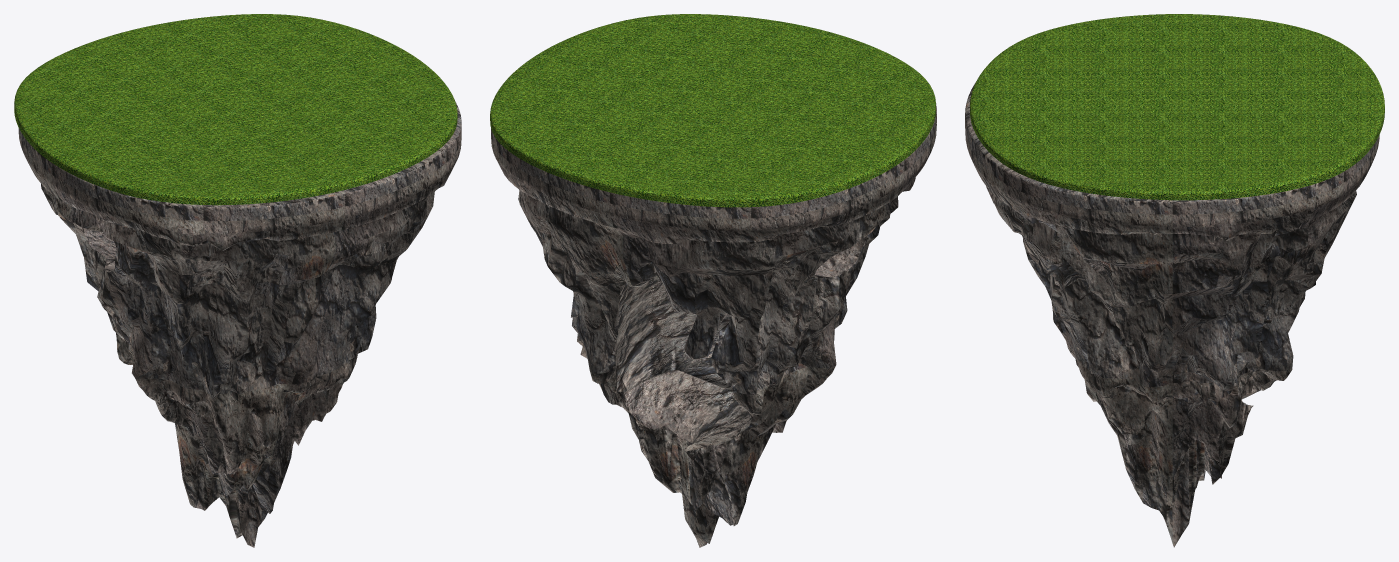
Rendered from ISLAND2.glb.
The picture shows the model from 3 angles, left to right: view 1: azimuth 30°, elevation 25°; view 2: azimuth 150°, elevation 25°; view 3: azimuth 270°, elevation 25°; orthographic projection. The views are drawn at different scales.
Visible parts, largest first — view 1: Object_7, Object_2; view 2: Object_7, Object_2; view 3: Object_7, Object_2.
Boxes of the visible parts, x1,y1,x2,y2 form: Object_7: (18,101,461,547); Object_2: (14,14,457,205); Object_7: (491,103,936,547); Object_2: (490,14,935,207); Object_7: (965,83,1379,547); Object_2: (970,14,1384,200).
Bounding box in the file's own units: 47.41 × 53.59 × 46.56.
Materials: 2 (2 with a texture image).
